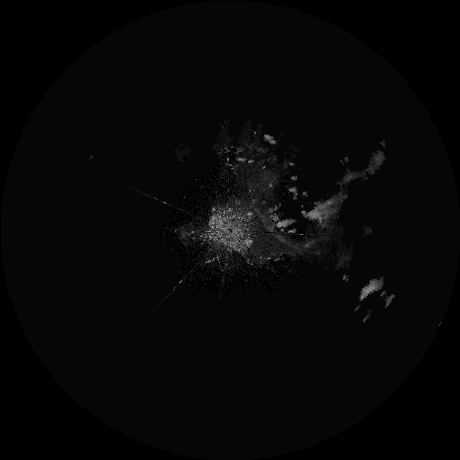frontgust: (252, 205, 302, 250)
